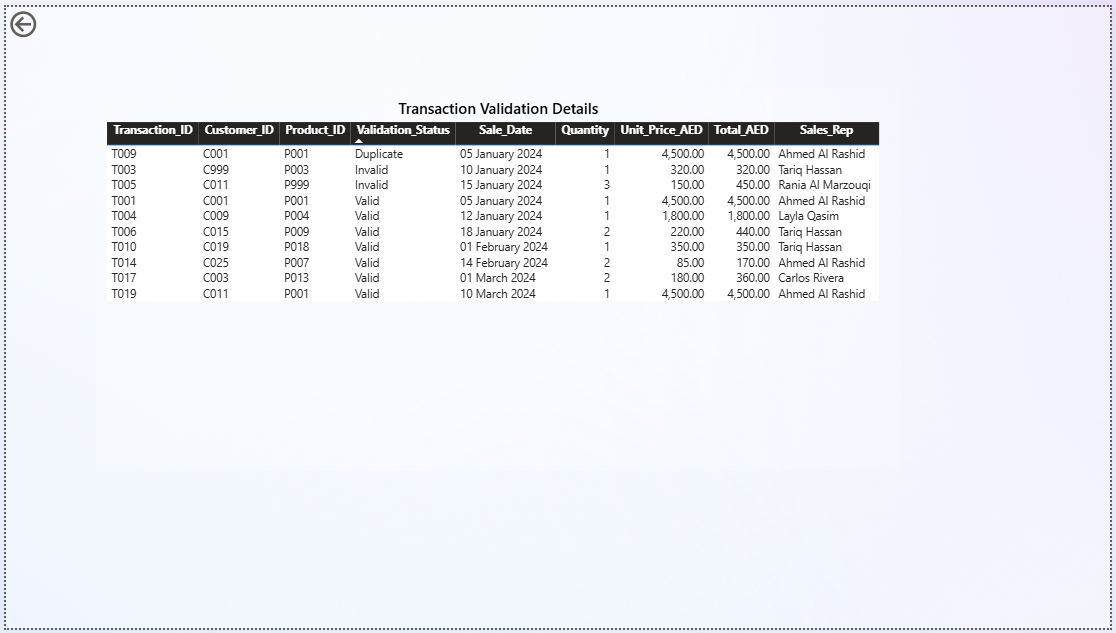

This screenshot's page, from the dashboard's own definition file:
{"tool":"powerbi","page":{"name":"Region Drillthrough","canvas":[1280,720],"ordinal":5},"visuals":[{"type":"tableEx","title":"Transaction Validation Details","fields":{"Values":["sales_data.Transaction_ID","sales_data.Customer_ID","sales_data.Product_ID","sales_data.Validation_Status","sales_data.Sale_Date","sales_data.Quantity","sales_data.Unit_Price_AED","sales_data.Total_AED","sales_data.Sales_Rep"]},"box":[103.9,94.2,933,443.9],"z":0},{"type":"actionButton","box":[0,0,100,40],"z":1000}]}

Visuals, with their boxes on the page's 1280x720 design canvas (x1, y1, x2, y2). These are canvas units, not pixel positions in the 1116x633 screenshot, which may show the page scaled, cropped or inside an application window:
"Transaction Validation Details" tableEx: bbox=(104, 94, 1037, 538)
actionButton: bbox=(0, 0, 100, 40)
